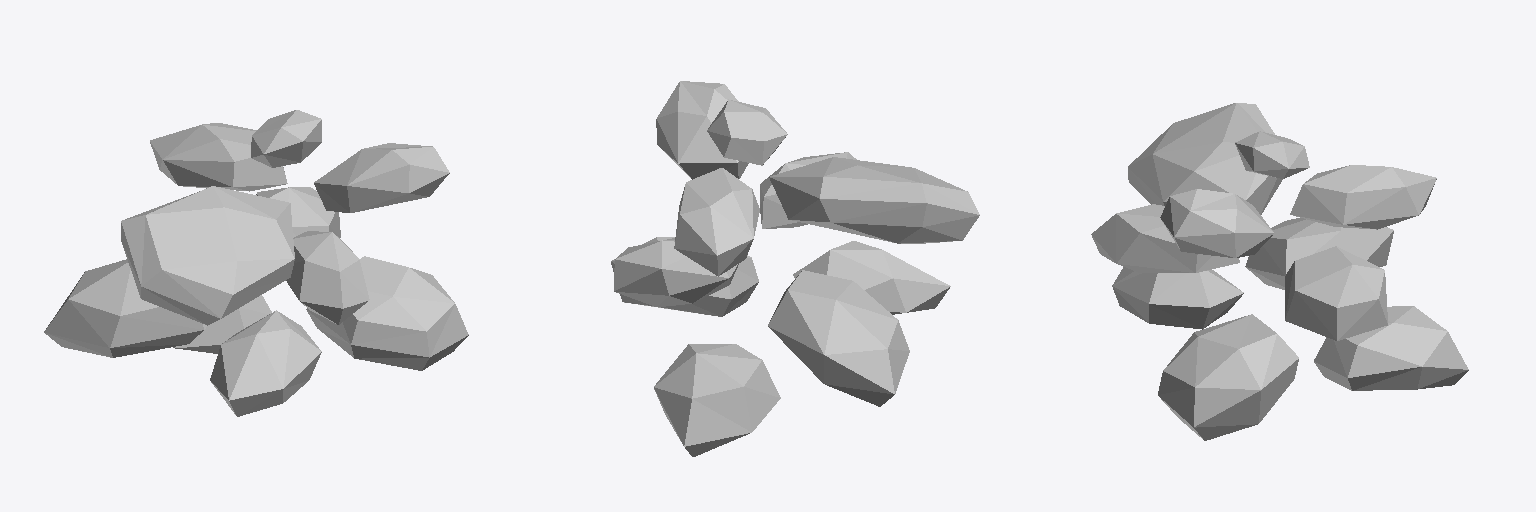
The model's file is Tree 2 leaves.obj.
3 views of the same model, side by side, from view 1: azimuth 30°, elevation 25°; view 2: azimuth 150°, elevation 25°; view 3: azimuth 270°, elevation 25° (orthographic).
Visible parts, largest first — view 1: Leaves_Sphere.007; view 2: Leaves_Sphere.007; view 3: Leaves_Sphere.007.
Part boxes in pixels (bbox=[...]): Leaves_Sphere.007: bbox=[44, 110, 468, 416]; Leaves_Sphere.007: bbox=[611, 81, 979, 456]; Leaves_Sphere.007: bbox=[1091, 103, 1468, 440].
Bounding box in the file's own units: 2.06 × 1.56 × 1.98.